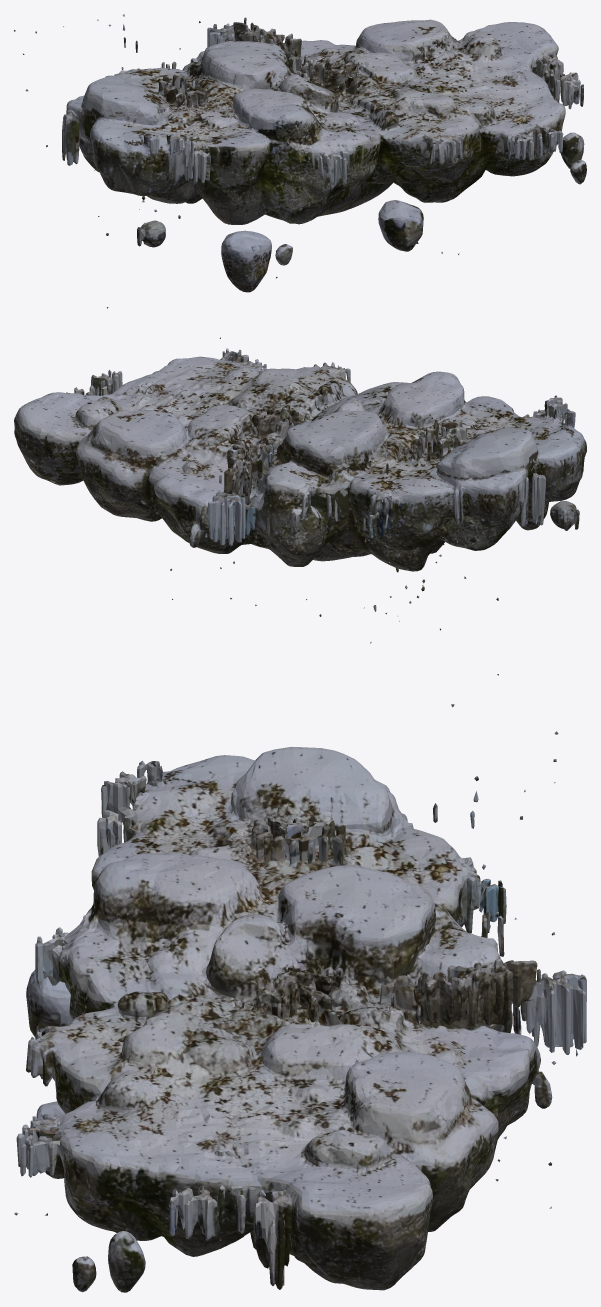
The model's file is snow-sky-rock-2.glb.
The picture shows the model from 3 angles, top to bottom: view 1: azimuth 30°, elevation 25°; view 2: azimuth 150°, elevation 25°; view 3: azimuth 270°, elevation 25°; orthographic projection. The views are drawn at different scales.
Parts seen in each view (by area): view 1: textured_mesh.obj; view 2: textured_mesh.obj; view 3: textured_mesh.obj.
Boxes of the visible parts, left/top/right/bottom form: textured_mesh.obj: left=14, top=14, right=586, bottom=308; textured_mesh.obj: left=14, top=337, right=586, bottom=675; textured_mesh.obj: left=14, top=704, right=586, bottom=1292.
Size of the model in its own units: 1.99 by 0.9367 by 1.24.
1 material, 1 textured.
